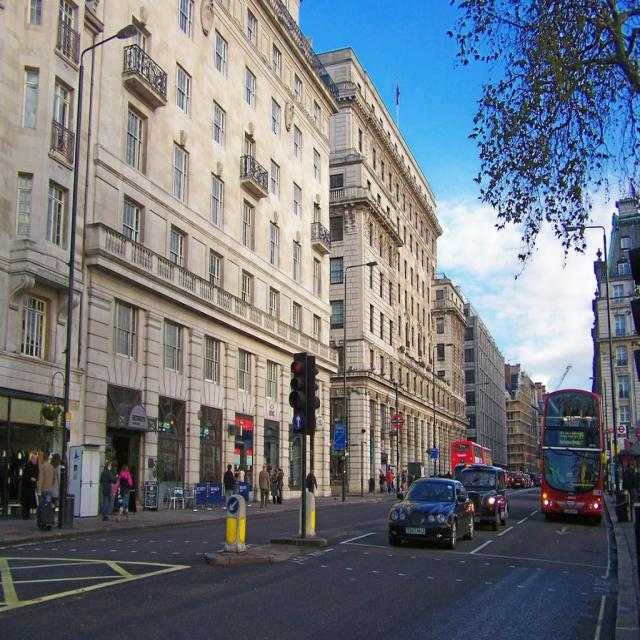Buses: (538, 387, 603, 521)
Passenger Car: (386, 478, 475, 550)
Pedestrians: (112, 464, 134, 524), (100, 460, 112, 524)
